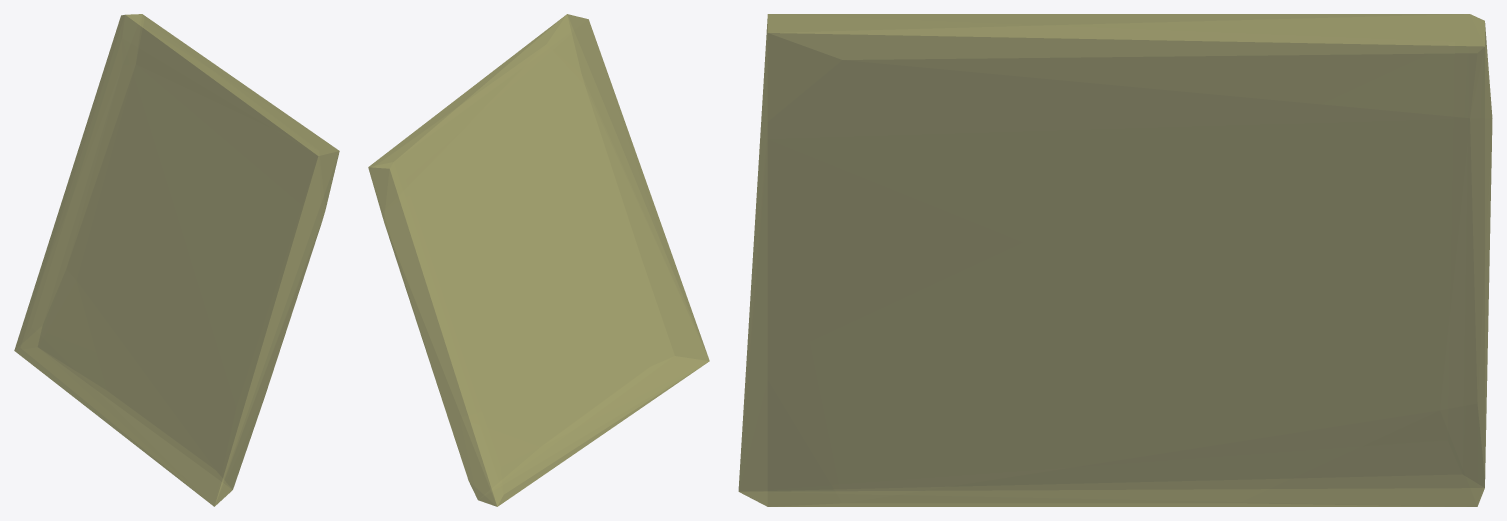
The picture shows the model from 3 angles, left to right: view 1: azimuth 30°, elevation 25°; view 2: azimuth 150°, elevation 25°; view 3: azimuth 270°, elevation 25°; orthographic projection. The views are drawn at different scales.
Visible parts, largest first — view 1: Shape_IndexedFaceSet.006_Shape_IndexedFaceSet.4352; view 2: Shape_IndexedFaceSet.006_Shape_IndexedFaceSet.4352; view 3: Shape_IndexedFaceSet.006_Shape_IndexedFaceSet.4352.
Boxes of the visible parts, box(x1,y1,x2,y2) form: Shape_IndexedFaceSet.006_Shape_IndexedFaceSet.4352: box(14, 14, 339, 506); Shape_IndexedFaceSet.006_Shape_IndexedFaceSet.4352: box(368, 14, 709, 506); Shape_IndexedFaceSet.006_Shape_IndexedFaceSet.4352: box(738, 14, 1492, 506).
Size of the model in its own units: 0.2393 by 0.5446 by 0.645.
